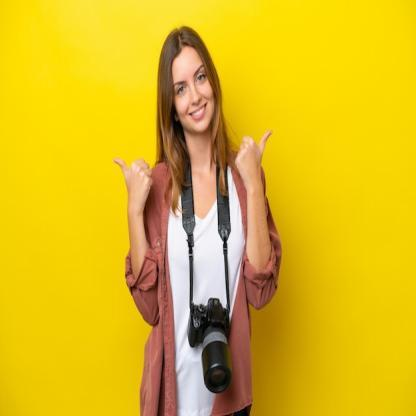thumb_up: (112, 150, 157, 212), (232, 126, 276, 188)
